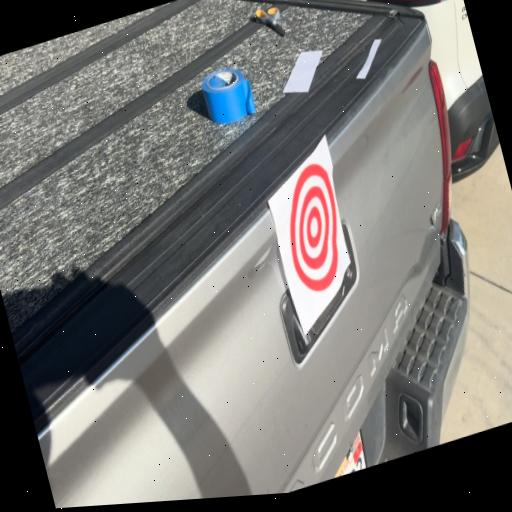bullseye: (273, 138, 351, 325)
